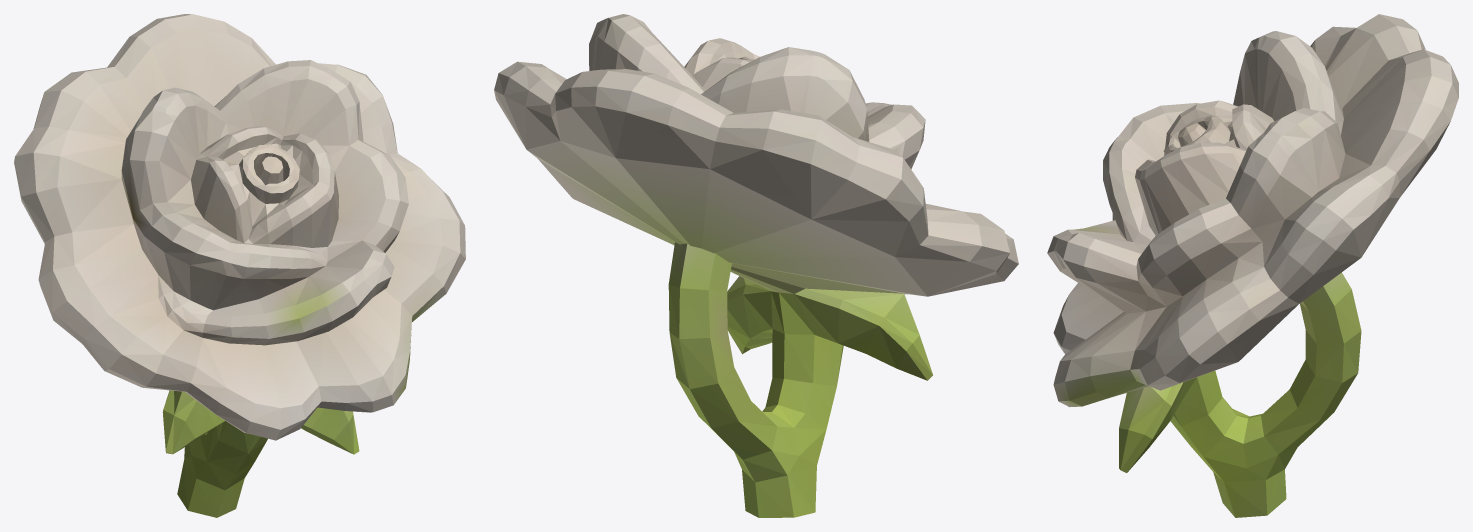
Rendered from rose.glb.
3 views of the same model, side by side, from view 1: azimuth 30°, elevation 25°; view 2: azimuth 150°, elevation 25°; view 3: azimuth 270°, elevation 25° (orthographic). The views are drawn at different scales.
Parts seen in each view (by area): view 1: geometry_0; view 2: geometry_0; view 3: geometry_0.
Part boxes in pixels (bbox=[...]): geometry_0: bbox=[14, 14, 465, 517]; geometry_0: bbox=[494, 14, 1018, 517]; geometry_0: bbox=[1047, 14, 1458, 517].
Size of the model in its own units: 0.1587 by 0.1587 by 0.126.
